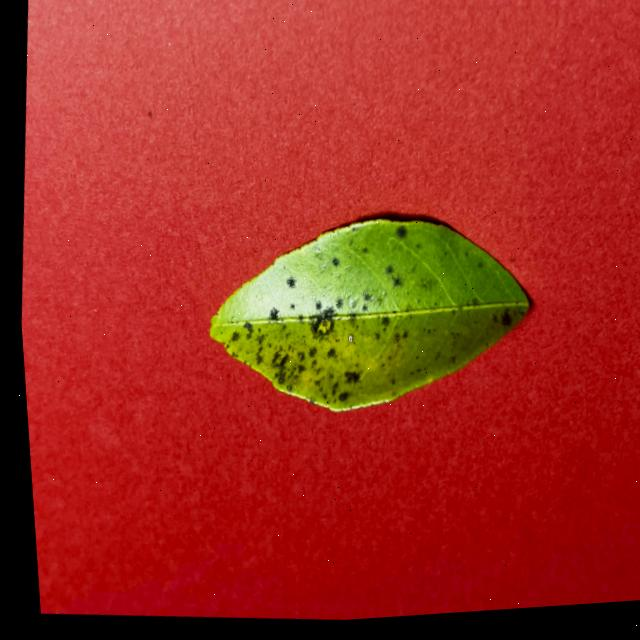sooty_mold: (209, 219, 528, 410)
